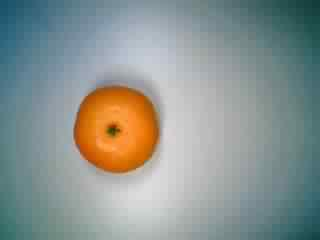orange: (70, 81, 167, 175)
